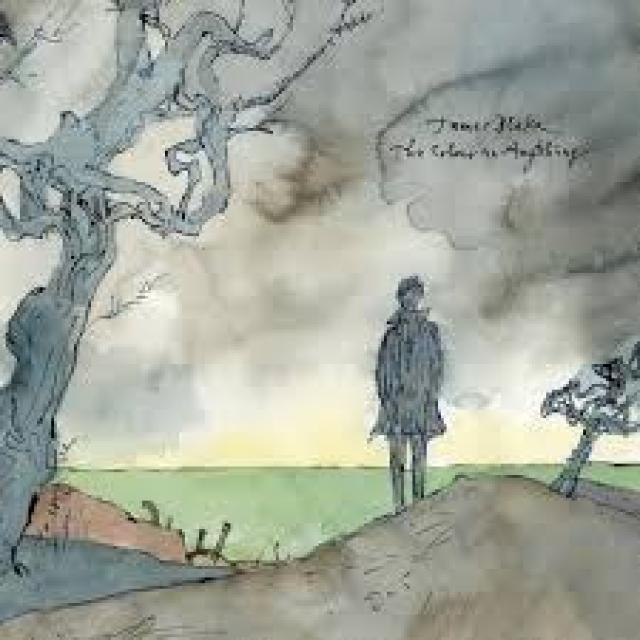Smoke: (348, 23, 640, 255), (113, 200, 368, 454), (433, 240, 640, 398)
